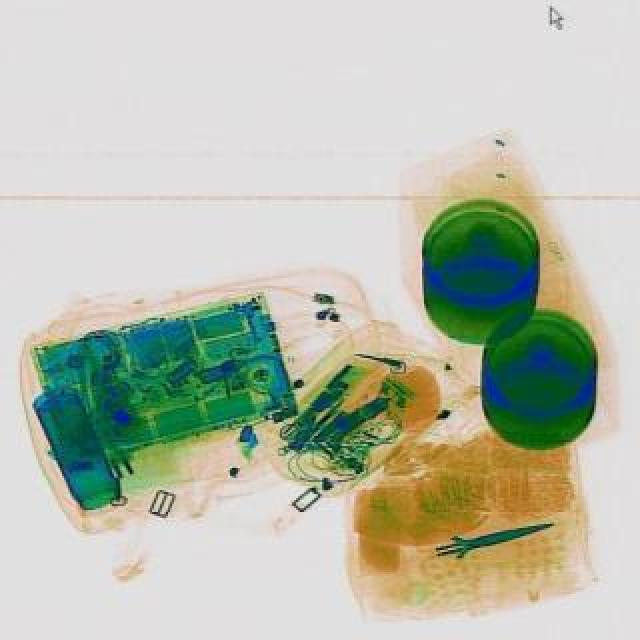knife: (432, 508, 560, 564)
